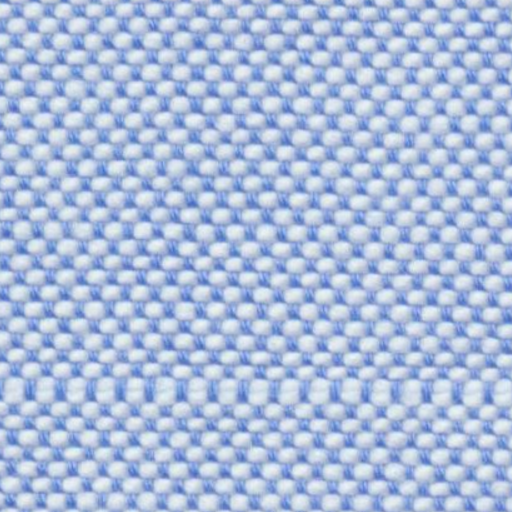TuoSha: (8, 332, 497, 430)
